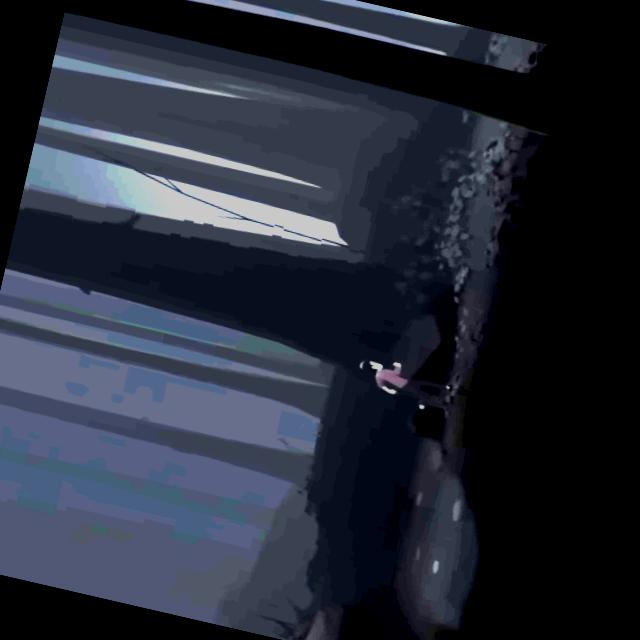boy: (352, 354, 456, 416)
